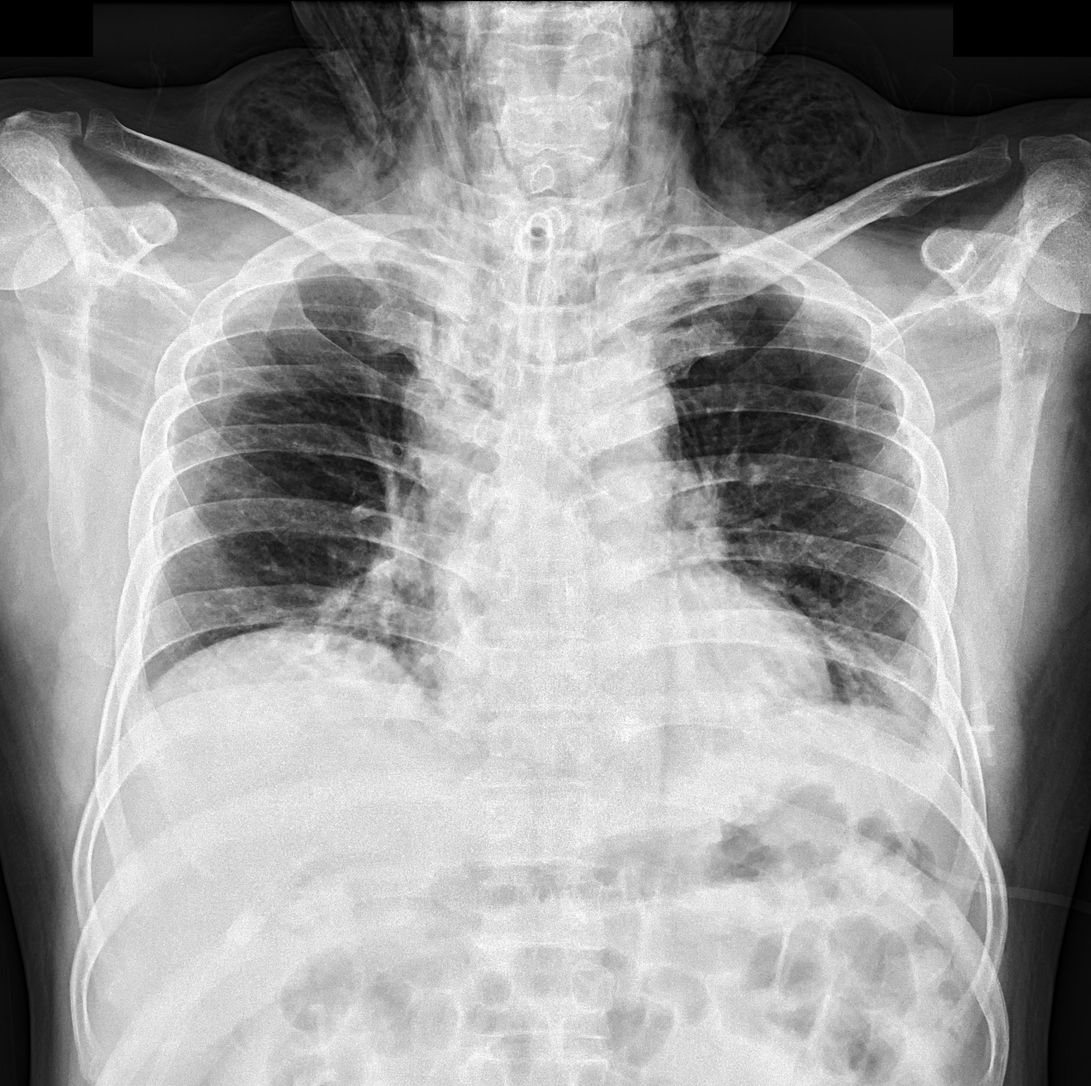Cardiomegaly: (411, 586, 832, 738)
